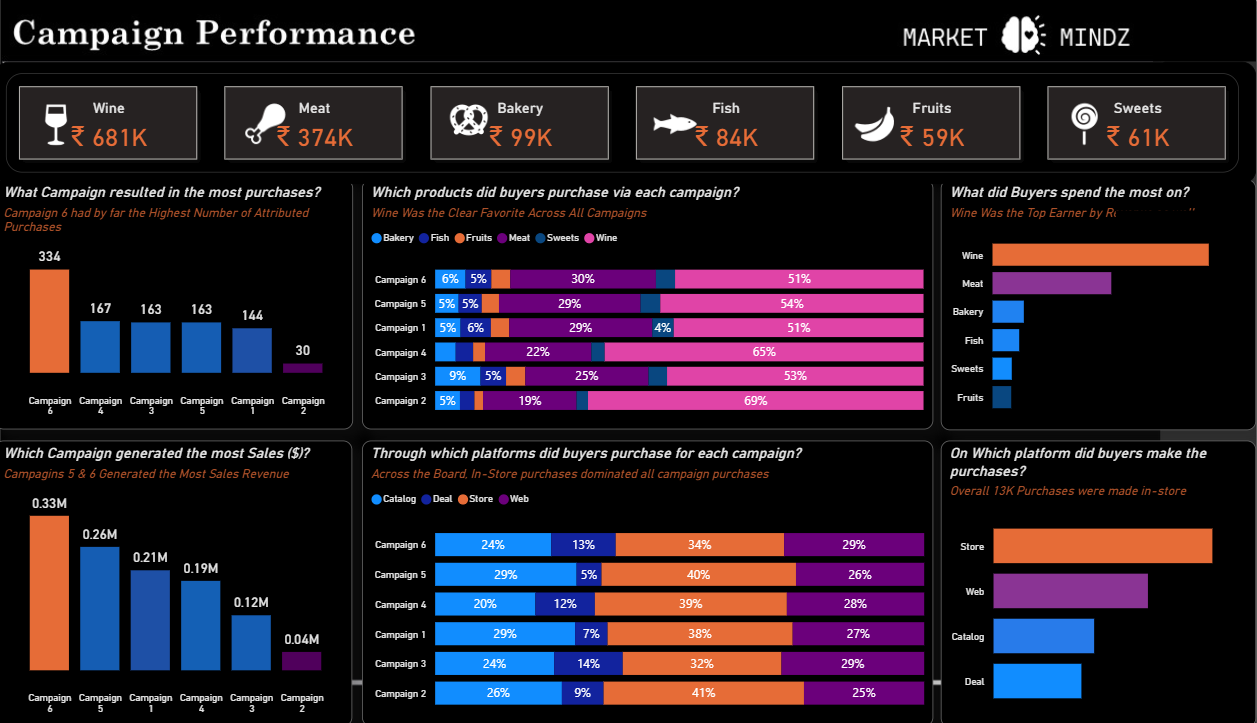

What the dashboard file says about the page in this screenshot:
{"tool":"powerbi","page":{"name":"Campaign Performance","canvas":[1280,720],"ordinal":0},"visuals":[{"type":"columnChart","title":"What Campaign resulted in the most purchases?","fields":{"Category":["campaign.Campaign"],"Y":["Sum(campaign.Accepted_Ind)"]},"box":[41.7,182.8,352.1,245.4],"z":0},{"type":"columnChart","title":"Which Campaign generated the most Sales ($)?","fields":{"Y":["Sum(products.Total Sales)"],"Category":["campaign.Campaign"]},"box":[41.7,439.3,350.9,281],"z":1000},{"type":"hundredPercentStackedBarChart","title":"Which products did buyers purchase via each campaign?","fields":{"Category":["campaign.Campaign"],"Y":["Sum(products.Total Sales)"],"Series":["products.Product"]},"box":[402.5,182.8,560.7,245.4],"z":2000},{"type":"barChart","title":"What did Buyers spend the most on?","fields":{"Category":["products.Product"],"Y":["Sum(products.Total Sales)"]},"box":[970.7,182.6,309.5,246],"z":3000},{"type":"hundredPercentStackedBarChart","title":"Through which platforms did buyers purchase for each campaign?","fields":{"Category":["campaign.Campaign"],"Y":["Sum(platform.Qty)"],"Series":["platform.Platform"]},"box":[401.9,439.7,561,280.5],"z":4000},{"type":"barChart","title":"On Which platform did buyers make the purchases?","fields":{"Y":["Sum(platform.Qty)"],"Category":["platform.Platform"]},"box":[970.7,439.7,309.5,281.6],"z":5000},{"type":"cardVisual","fields":{"Data":["Sum(marketmindz_research_data (1).Wine)","Sum(marketmindz_research_data (1).Meat)","Sum(marketmindz_research_data (1).Bakery)","Sum(marketmindz_research_data (1).Fish)","Sum(marketmindz_research_data (1).Fruits)","Sum(marketmindz_research_data (1).Sweets)"]},"box":[41.7,67.5,1238,120.2],"z":6000},{"type":"shape","box":[1142.3,213.5,90.8,12.3],"z":7000},{"type":"textbox","box":[1179.1,0,100.6,67.5],"z":8000},{"type":"image","box":[682.2,62.6,55.2,132.5],"z":9000},{"type":"image","box":[878.5,99.4,54,57.7],"z":10000},{"type":"image","box":[482.2,99.4,50.3,50.3],"z":11000},{"type":"image","box":[71.2,99.4,61.4,58.9],"z":12000},{"type":"image","box":[278.5,100.6,58.9,55.2],"z":13000},{"type":"image","box":[1081,101.8,61.4,54],"z":14000}]}

Visuals, with their boxes in screenshot pixels (x1, y1, x2, y2), scaled from the page's 1280x720 canvas onto the 1257x723 screenshot:
"What Campaign resulted in the most purchases?" columnChart: x1=41, y1=184, x2=387, y2=430
"Which Campaign generated the most Sales ($)?" columnChart: x1=41, y1=441, x2=386, y2=722
"Which products did buyers purchase via each campaign?" hundredPercentStackedBarChart: x1=395, y1=184, x2=946, y2=430
"What did Buyers spend the most on?" barChart: x1=953, y1=183, x2=1256, y2=430
"Through which platforms did buyers purchase for each campaign?" hundredPercentStackedBarChart: x1=395, y1=442, x2=946, y2=722
"On Which platform did buyers make the purchases?" barChart: x1=953, y1=442, x2=1256, y2=722
cardVisual - Sum(marketmindz_research_data (1).Wine) x Sum(marketmindz_research_data (1).Meat): x1=41, y1=68, x2=1256, y2=188
shape: x1=1122, y1=214, x2=1211, y2=227
textbox: x1=1158, y1=0, x2=1256, y2=68
image: x1=670, y1=63, x2=724, y2=196
image: x1=863, y1=100, x2=916, y2=158
image: x1=474, y1=100, x2=523, y2=150
image: x1=70, y1=100, x2=130, y2=159
image: x1=273, y1=101, x2=331, y2=156
image: x1=1062, y1=102, x2=1122, y2=156
